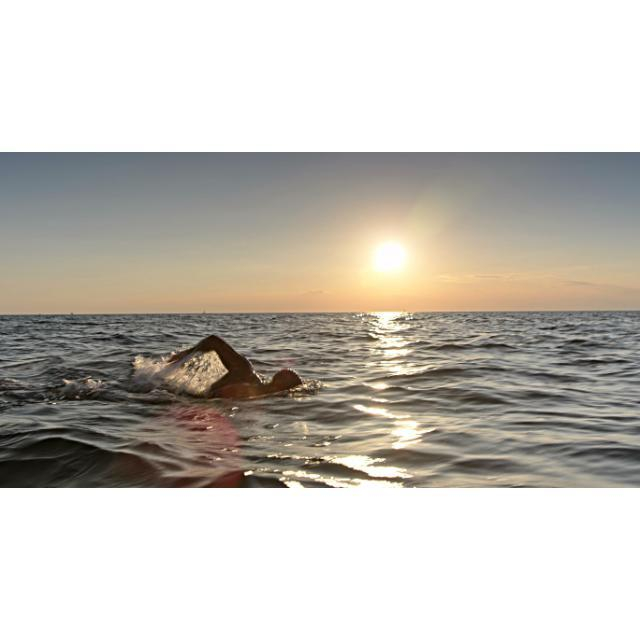human: (167, 334, 301, 400)
